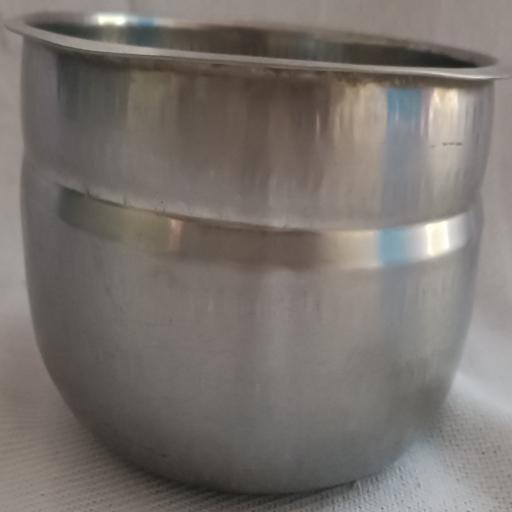vessel: (9, 13, 501, 492)
